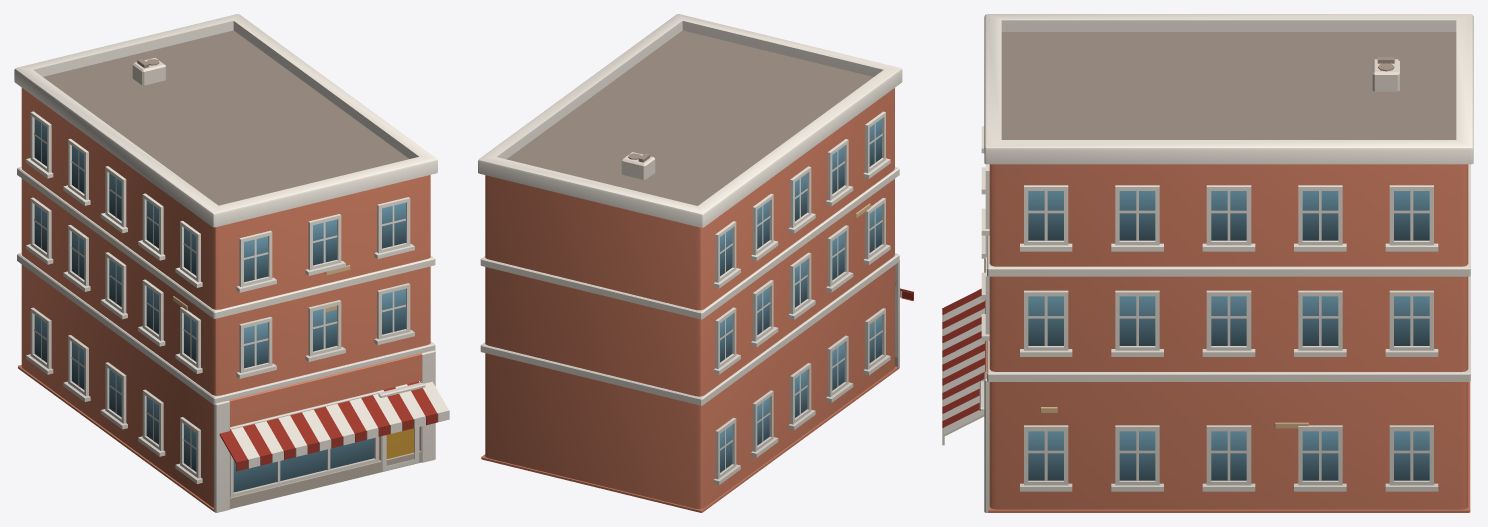
The model's file is boylston_s18.glb.
3 renders of one model, left to right at view 1: azimuth 30°, elevation 25°; view 2: azimuth 150°, elevation 25°; view 3: azimuth 270°, elevation 25°, orthographic. The views are drawn at different scales.
Visible parts, largest first — view 1: boylston_s18; view 2: boylston_s18; view 3: boylston_s18.
Boxes of the visible parts, <box> form: boylston_s18: <box>14,14,449,512</box>; boylston_s18: <box>478,14,913,512</box>; boylston_s18: <box>942,14,1473,512</box>.
Bounding box in the file's own units: 9.48 × 12.19 × 15.55.
Materials: 1 (1 with a texture image).
